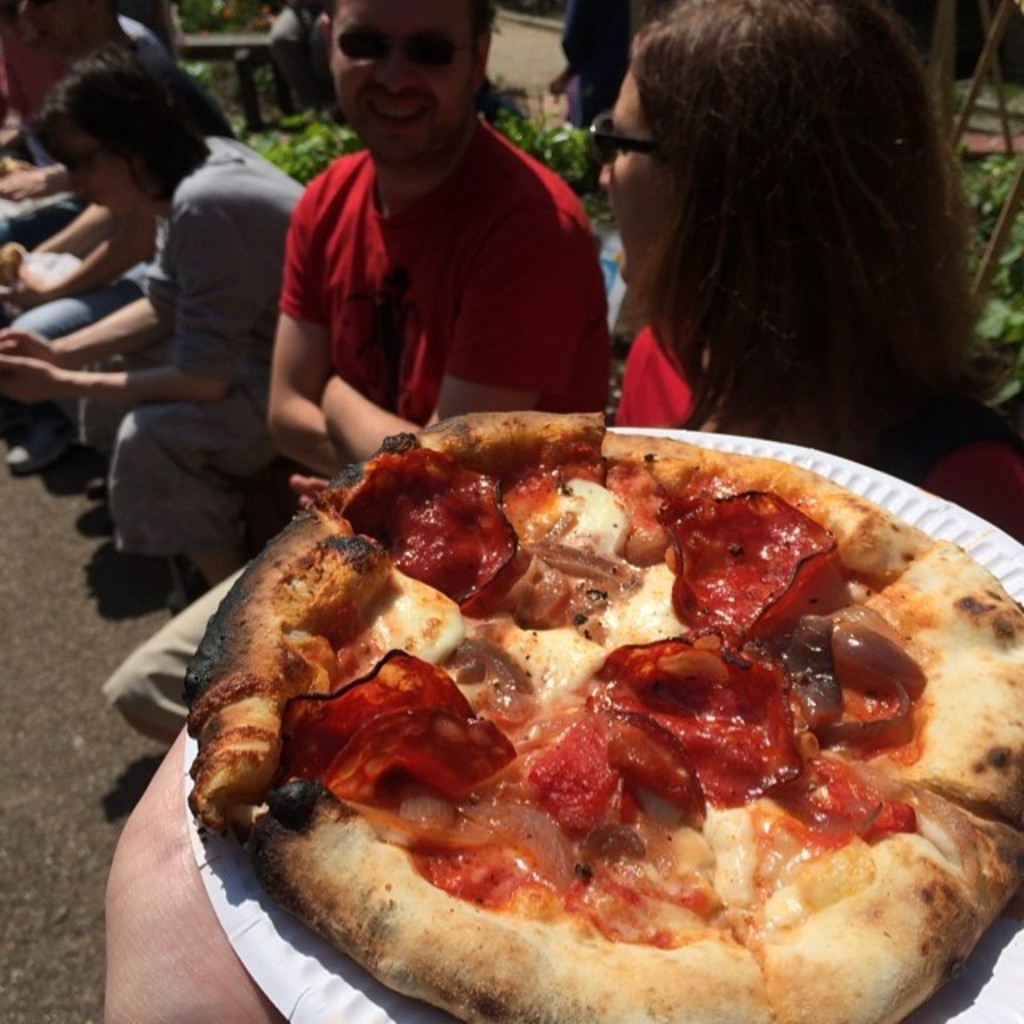Pizza: (192, 411, 1022, 1022)
